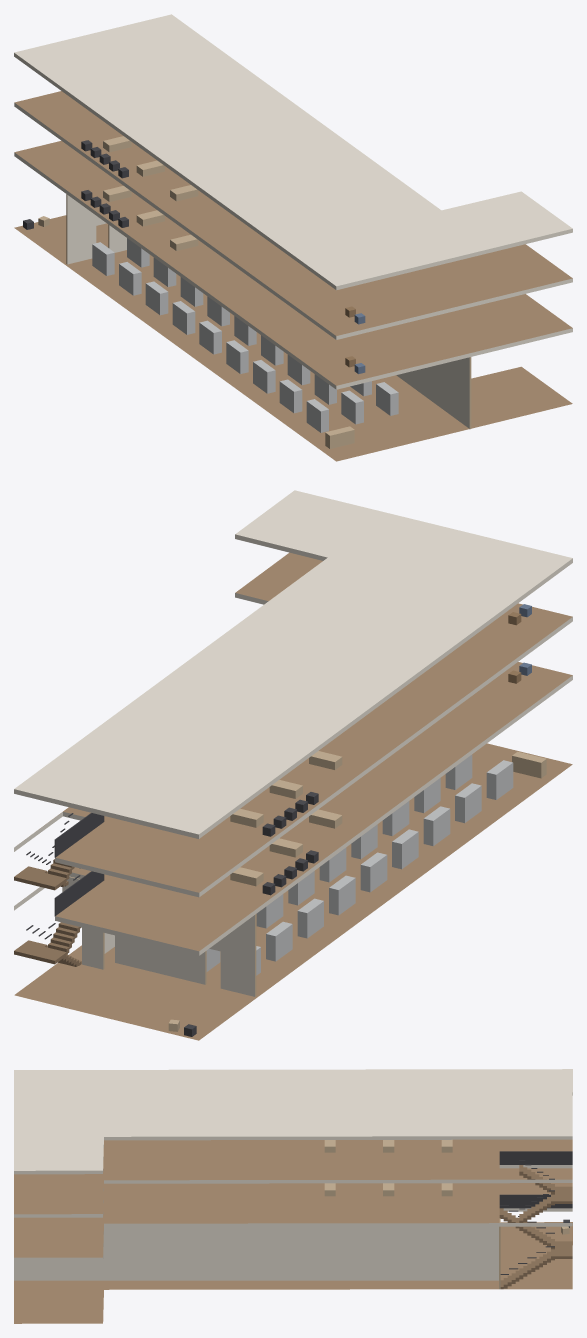
File: interior.glb
3 views of the same model, one above another, from view 1: azimuth 30°, elevation 25°; view 2: azimuth 150°, elevation 25°; view 3: azimuth 270°, elevation 25° (orthographic). The views are drawn at different scales.
Parts seen in each view (by area): view 1: slabs, coarse-s0, partitions, coarse-s1, coarse-s2; view 2: slabs, coarse-s0, partitions, stair, coarse-s1, coarse-s2; view 3: slabs, partitions, stair, coarse-s1, coarse-s2.
Part boxes in pixels (left/top/right/bottom): slabs: left=14, top=14, right=572, bottom=461; coarse-s0: left=23, top=216, right=398, bottom=448; partitions: left=66, top=194, right=471, bottom=429; coarse-s1: left=81, top=186, right=365, bottom=374; coarse-s2: left=81, top=136, right=365, bottom=324; slabs: left=14, top=490, right=572, bottom=1040; coarse-s0: left=168, top=751, right=546, bottom=1036; partitions: left=62, top=876, right=256, bottom=996; stair: left=14, top=813, right=104, bottom=966; coarse-s1: left=230, top=662, right=531, bottom=895; coarse-s2: left=230, top=604, right=531, bottom=836; slabs: left=14, top=1069, right=572, bottom=1323; partitions: left=14, top=1218, right=500, bottom=1289; stair: left=499, top=1151, right=572, bottom=1289; coarse-s1: left=324, top=1183, right=452, bottom=1196; coarse-s2: left=324, top=1139, right=452, bottom=1152.
Bounding box in the file's own units: 16.47 × 11.57 × 38.25.
